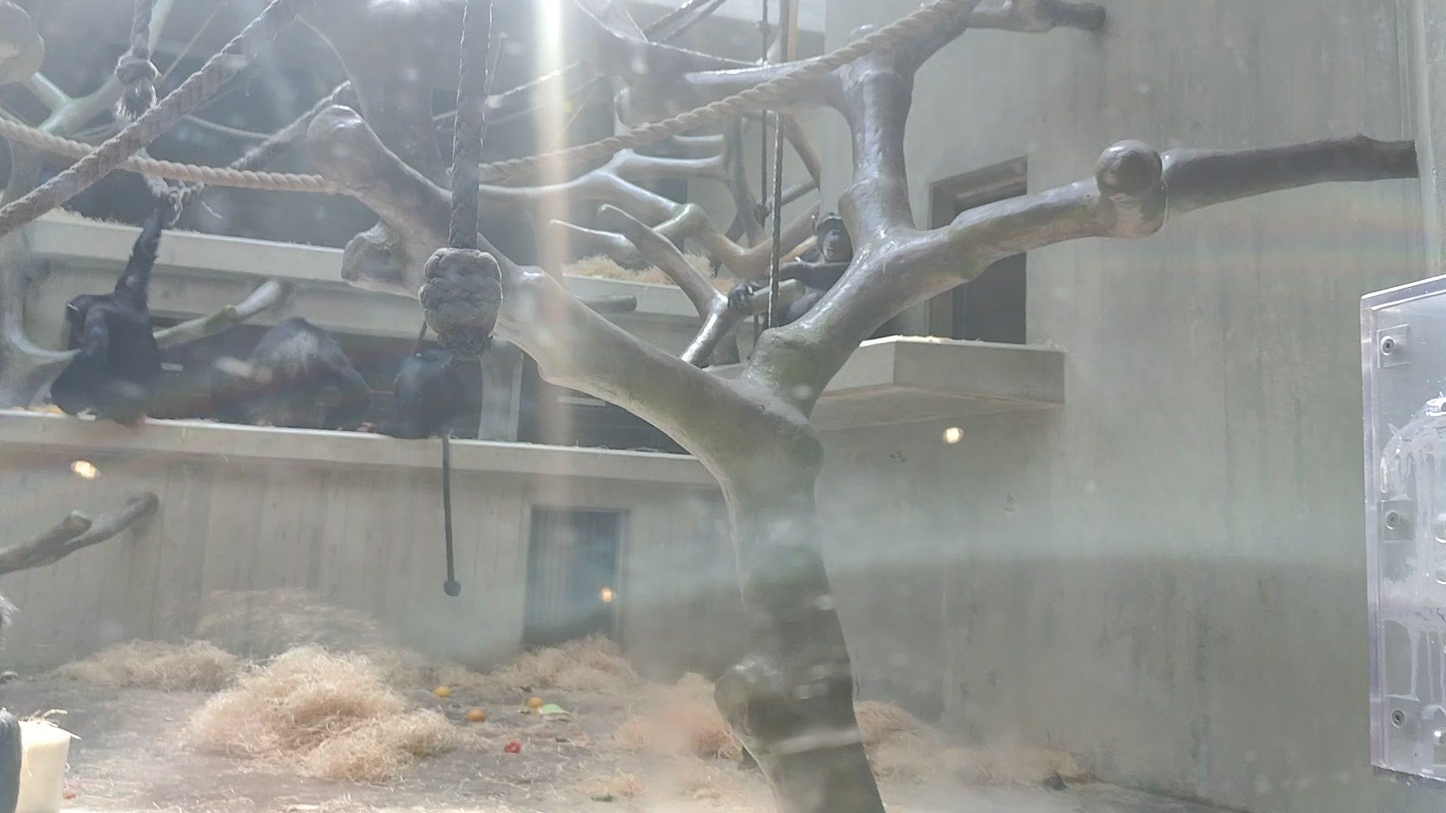boar: (49, 207, 164, 430), (727, 211, 893, 340), (211, 316, 372, 432), (367, 349, 465, 440)
